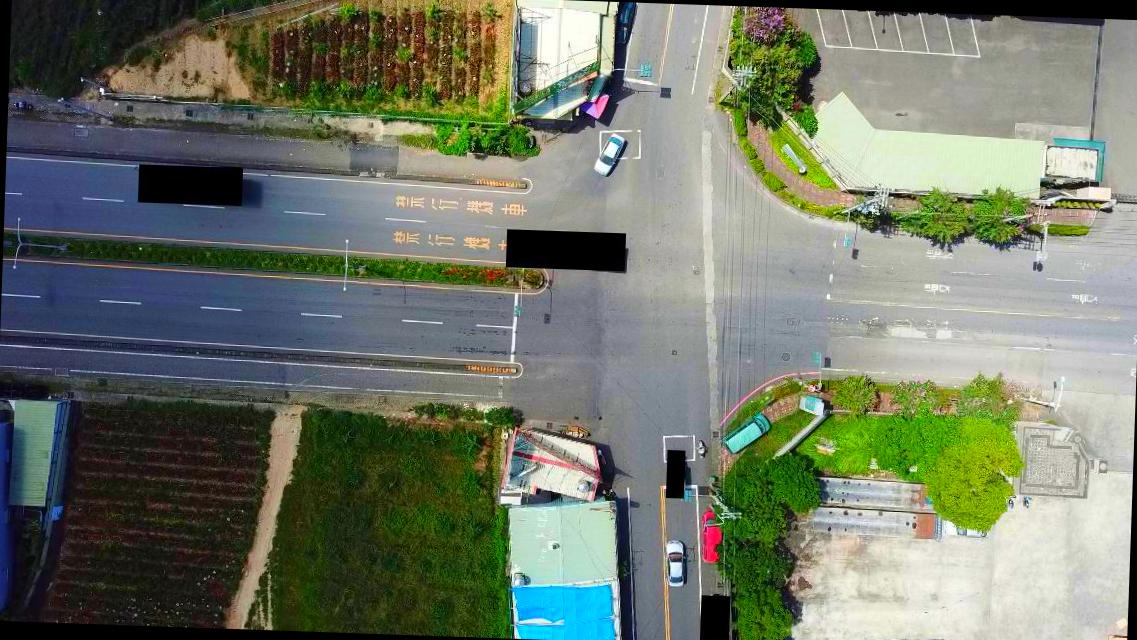vehicle: (724, 412, 772, 456), (591, 129, 626, 180), (694, 508, 724, 566), (942, 514, 990, 540), (662, 538, 686, 588), (612, 1, 632, 47)
